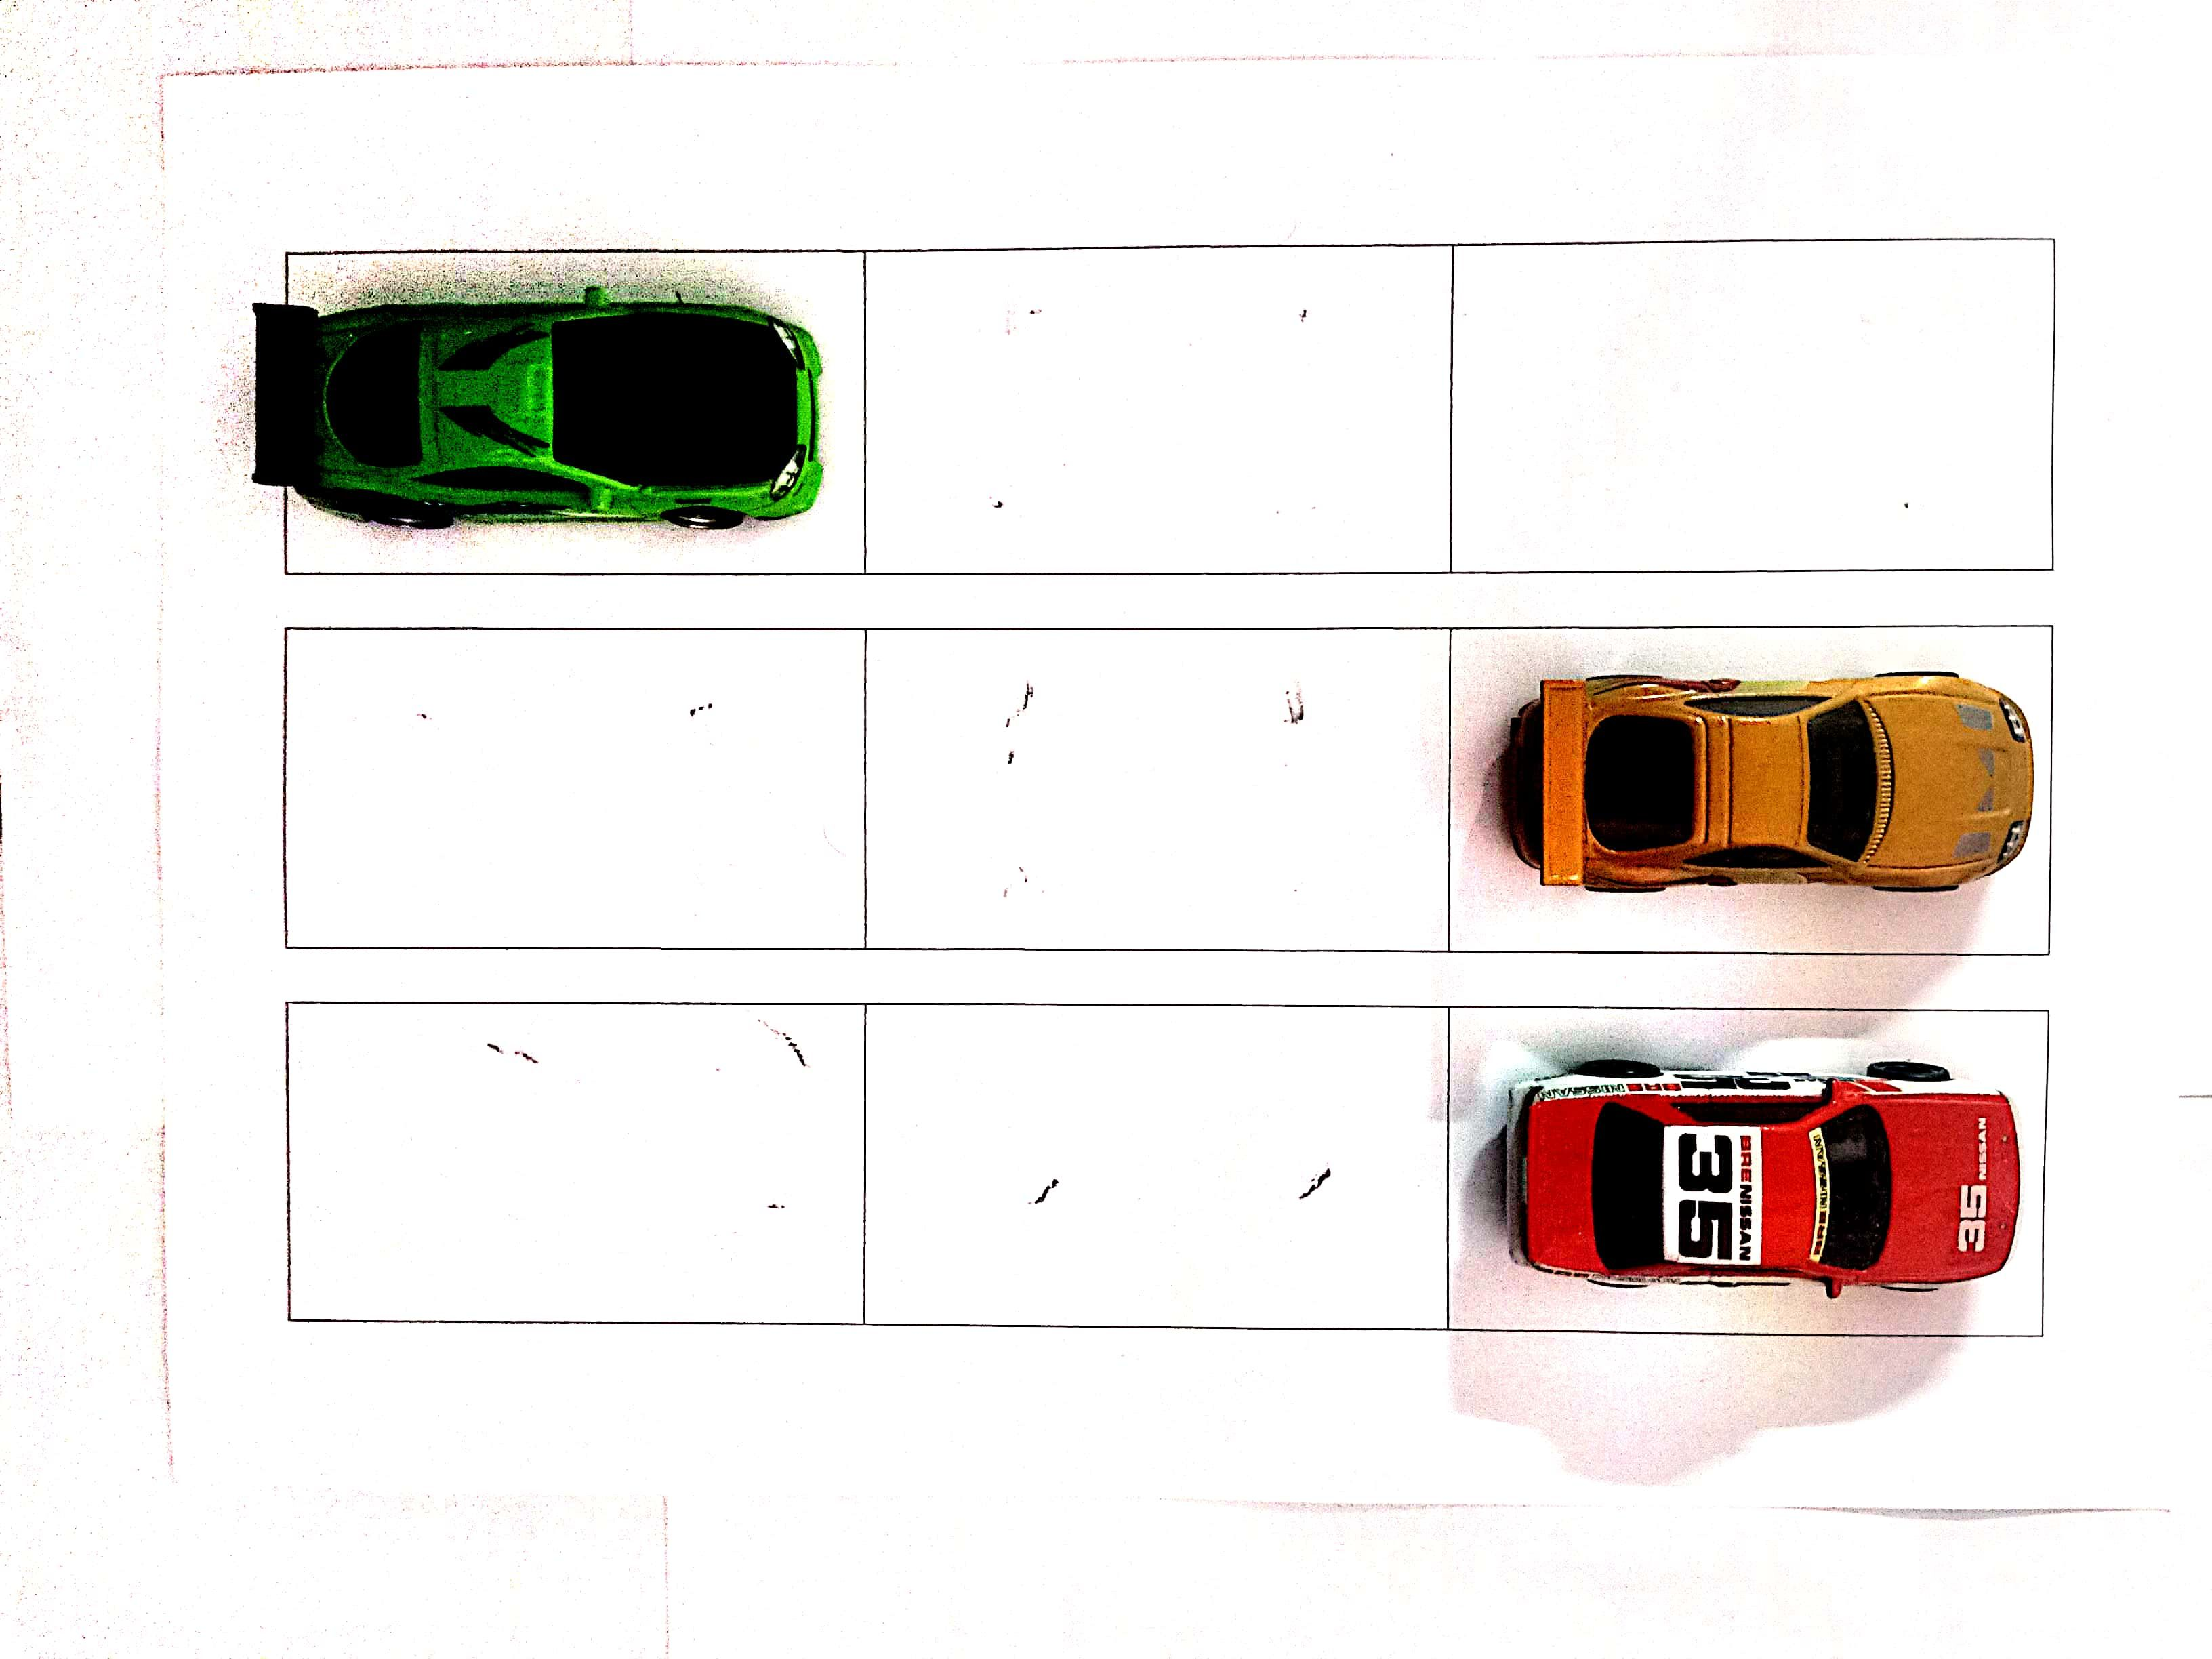Busy: (1449, 627, 2047, 950), (1449, 1014, 2045, 1331), (286, 253, 860, 577)
Free: (1451, 240, 2055, 568), (286, 627, 862, 955), (869, 1006, 1442, 1328), (871, 633, 1446, 953), (294, 1002, 866, 1324), (862, 253, 1442, 568)
